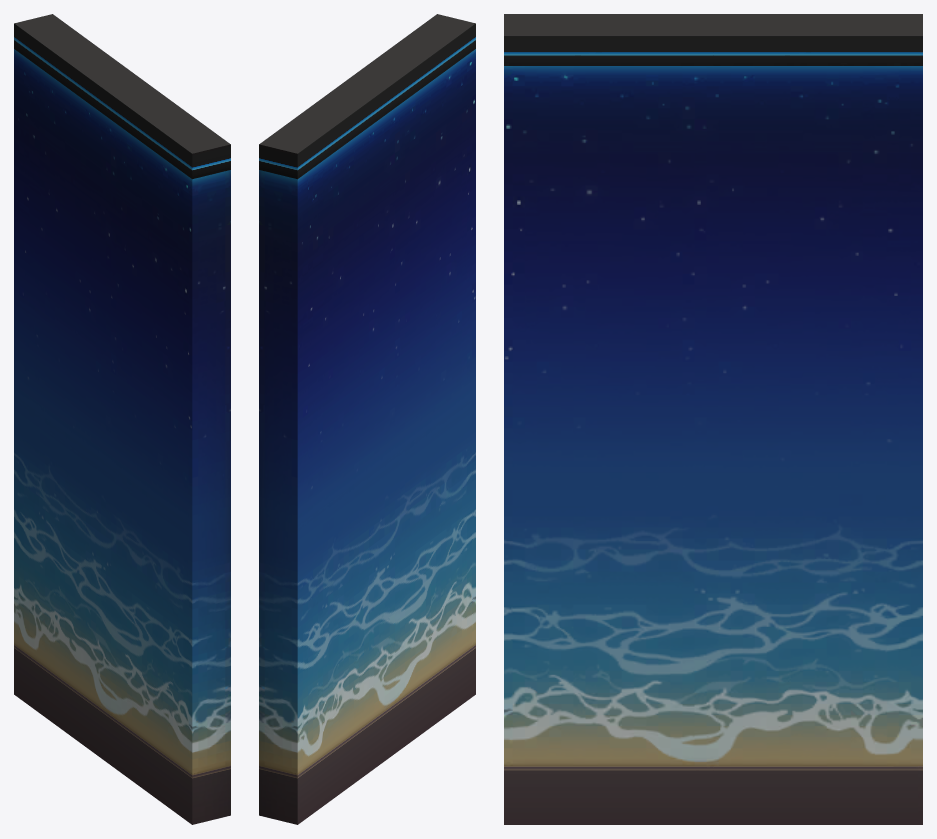
The model's file is my_ariussummer_01_wall_right_1x2.glb.
3 renders of one model, left to right at view 1: azimuth 30°, elevation 25°; view 2: azimuth 150°, elevation 25°; view 3: azimuth 270°, elevation 25°, orthographic. The views are drawn at different scales.
Visible parts, largest first — view 1: my_ariussummer_01_wall_right_1x2; view 2: my_ariussummer_01_wall_right_1x2; view 3: my_ariussummer_01_wall_right_1x2.
Part boxes in pixels (box(x1,y1,x2,y2)): my_ariussummer_01_wall_right_1x2: box(14, 14, 230, 824); my_ariussummer_01_wall_right_1x2: box(259, 14, 475, 824); my_ariussummer_01_wall_right_1x2: box(504, 14, 922, 824).
Bounding box in the file's own units: 0.003 × 0.0499 × 0.024.
1 material, 1 textured.
